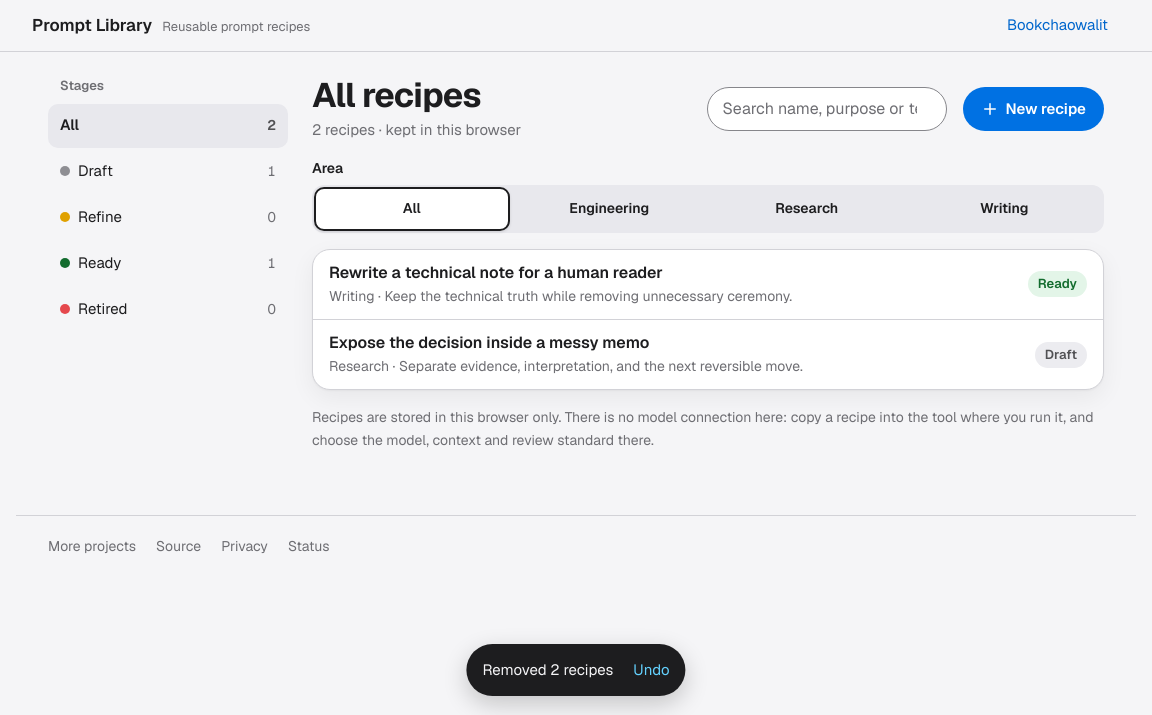
Test case: review 2026-11-19 (late) › a batch Undo brings back the unsaved draft of every recipe it restores
Earlier steps of the test are not shown.
What coordinates should you click on to do the following:
click the button "Undo"
I would click on:
 (652, 670)
Its box is [621, 648, 682, 692].
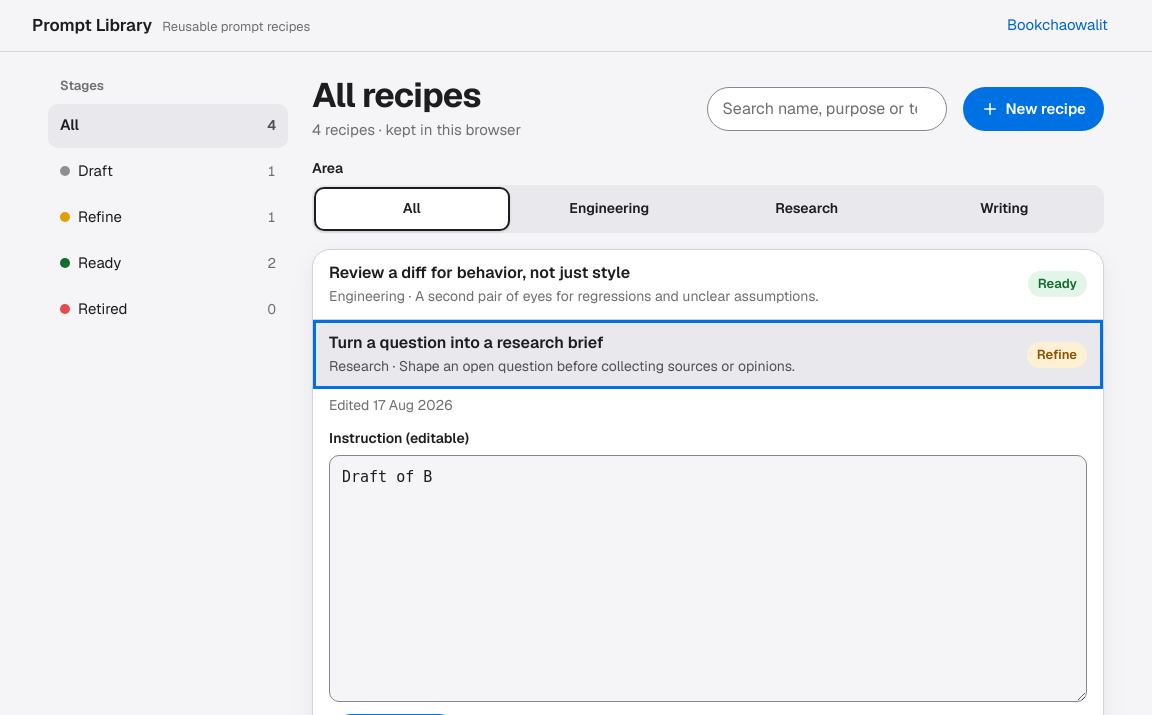
Expected: the text box labelled "Instruction (editable)" holds "Draft of B", [329, 455, 1087, 702]
What coordinates should you click on to do the following:
click the 1st button with class "pl-row-head"
I would click on:
 (708, 284)
Its box is [313, 250, 1103, 319].
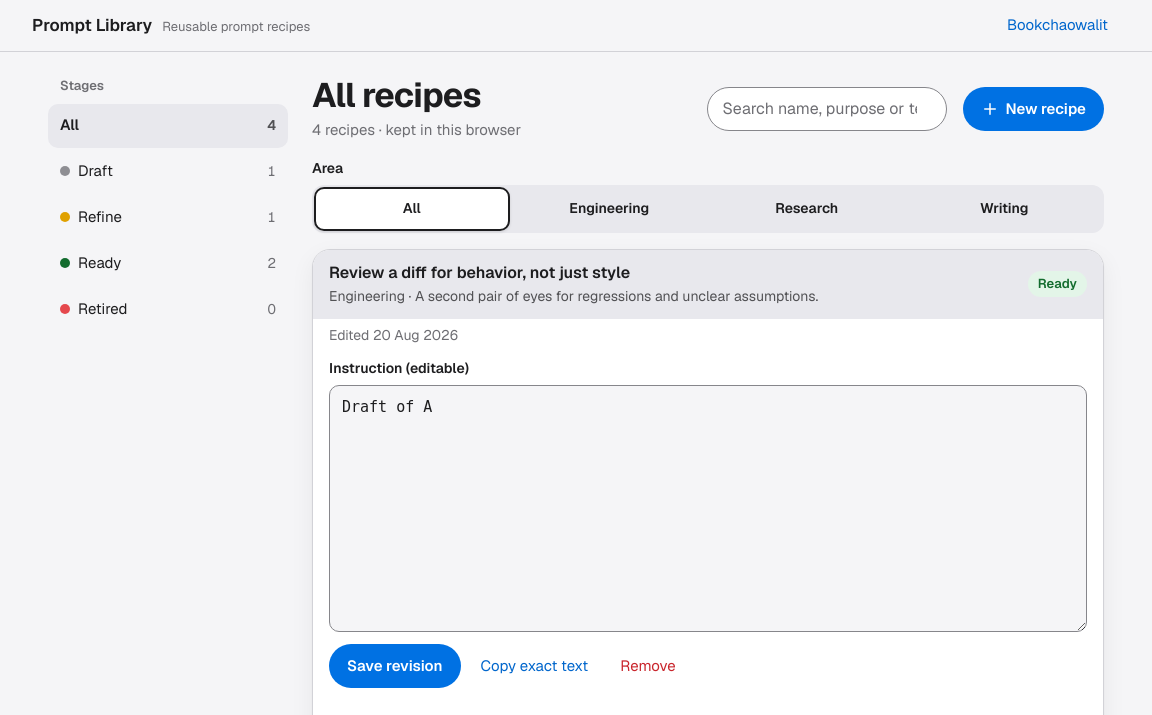
Expected: the text box labelled "Instruction (editable)" holds "Draft of A", [329, 385, 1087, 632]
